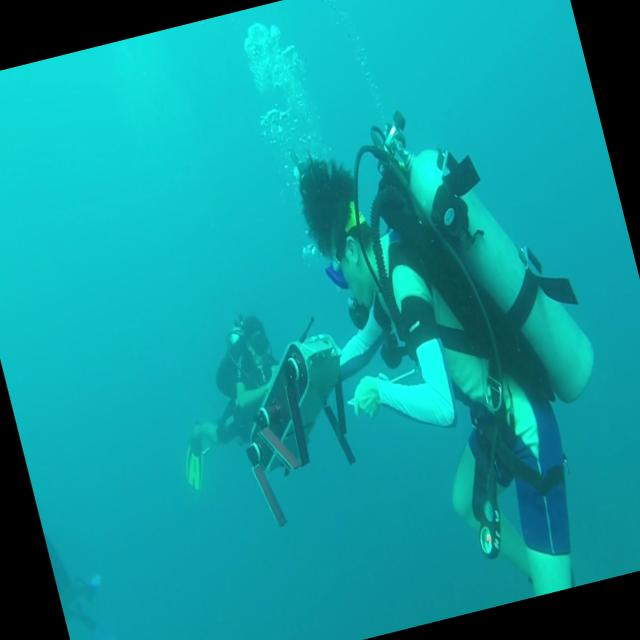human: (275, 87, 640, 630), (150, 305, 306, 494)
